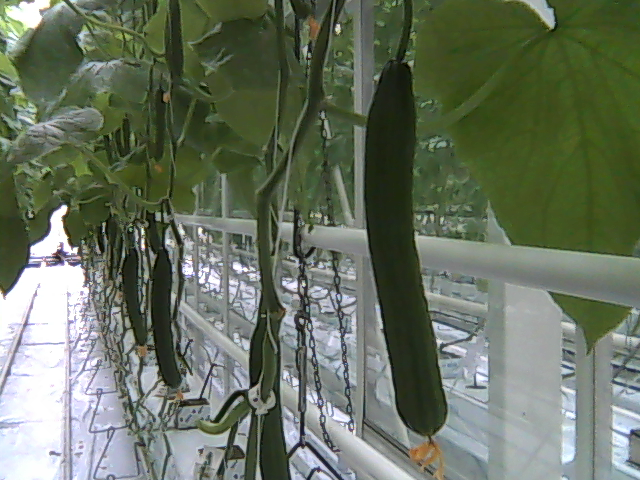concombre: (360, 56, 448, 480), (249, 312, 291, 480)
